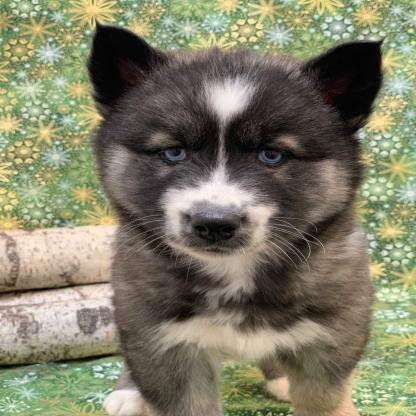dog: (78, 23, 382, 416)
